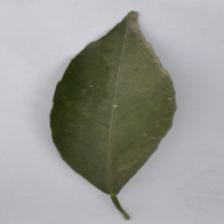healthy: (51, 11, 177, 196)
